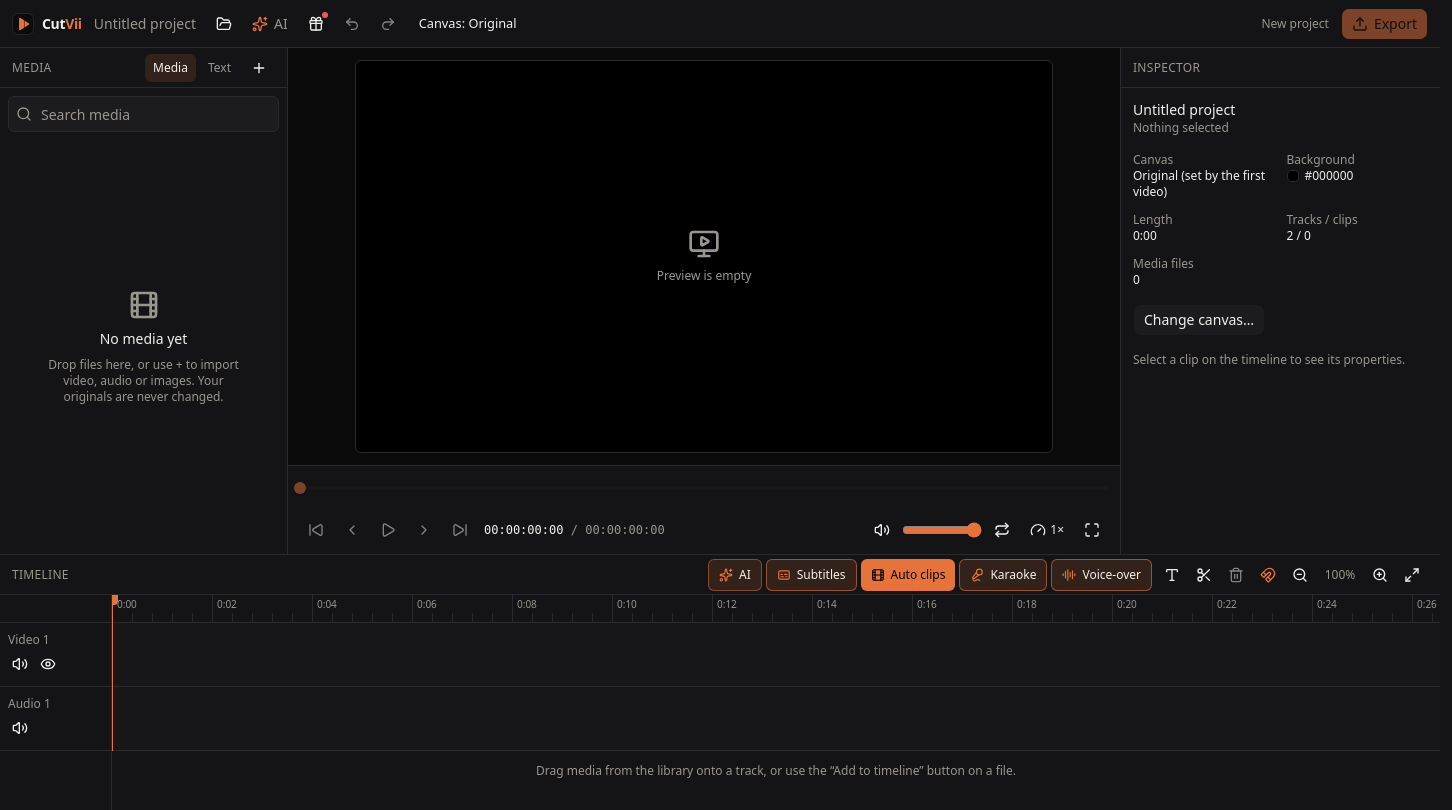
Test: Original canvas applied by the first media › first video sets the canvas (rotation and exact fps included) and the notice offers Undo
Click the button named "Import media" at (259, 68), box [243,52,275,84]
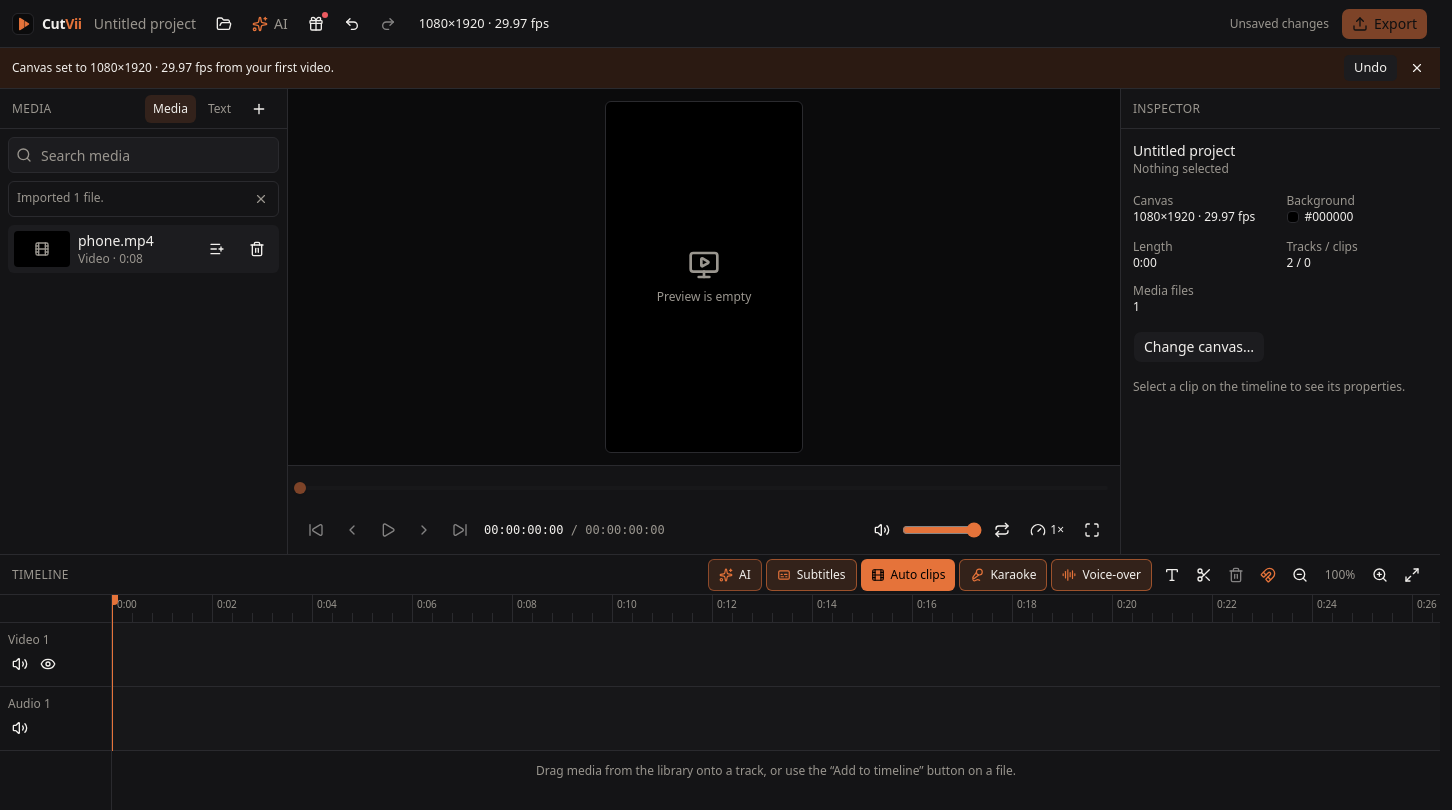
Expected: the text "phone.mp4" is shown, [78,231,154,250]
Expected: the text "Canvas set to 1080×1920 · 29.97 fps from your first video." is shown, [12,59,334,76]
Expected: the button with aria-label "Canvas: 1080×1920 · 29.97 fps" is shown, [408,10,560,38]
Click the button "Undo" at (1371, 68), box [1343,54,1398,82]
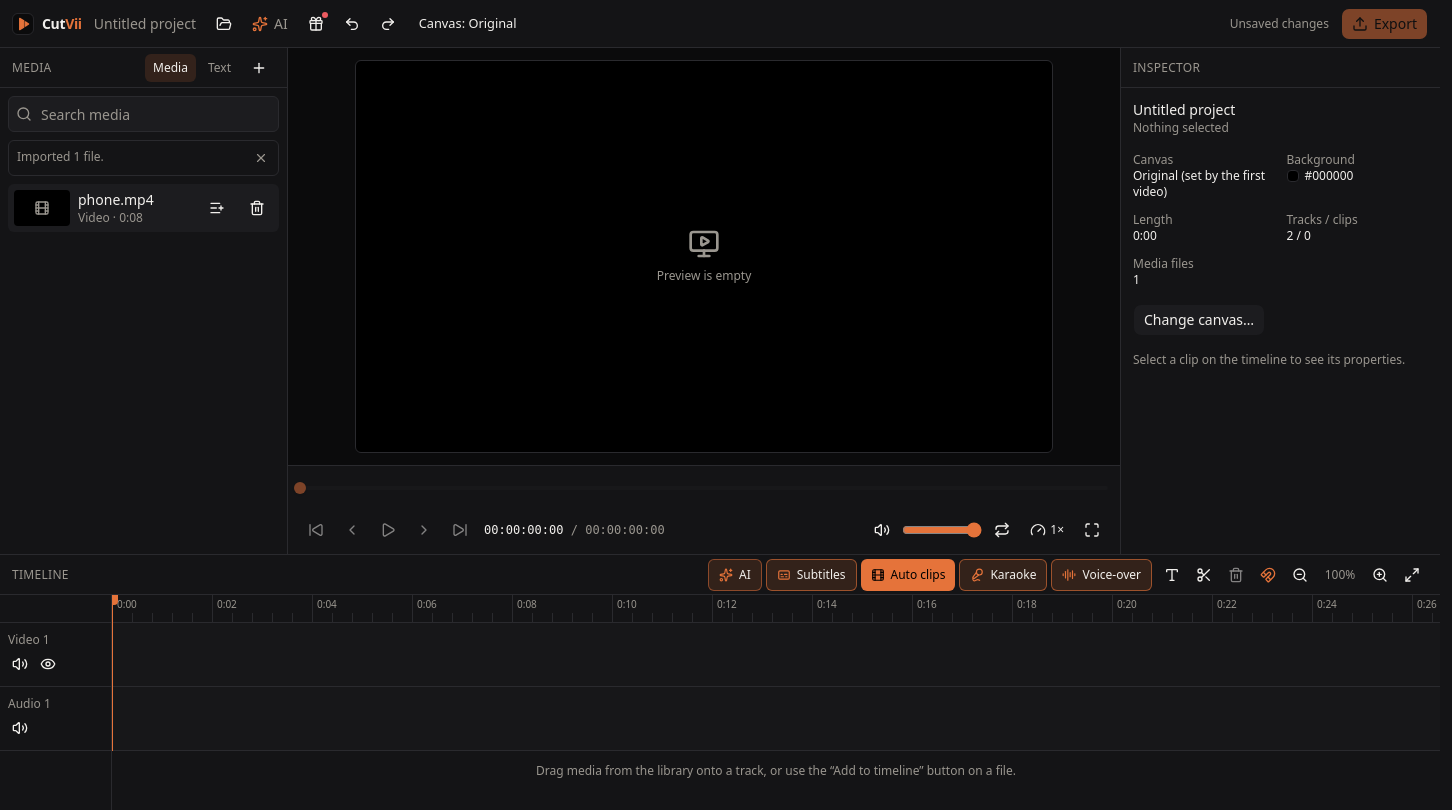
Expected: the text "Canvas set to" is gone
